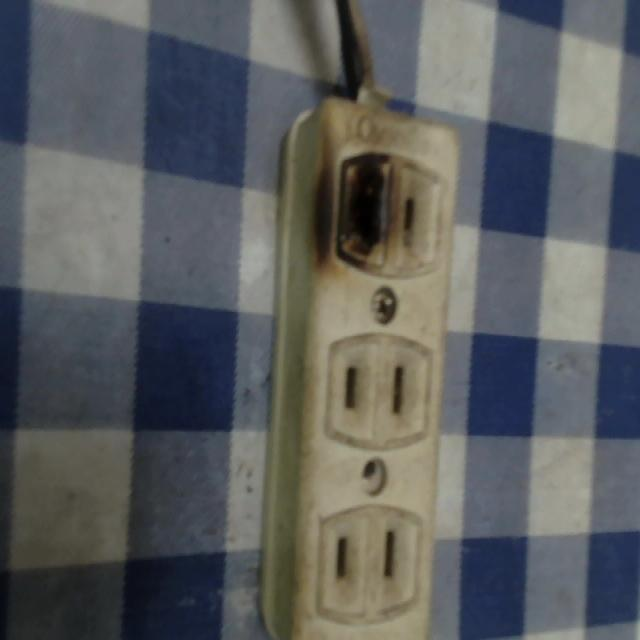-: (319, 135, 394, 288)
